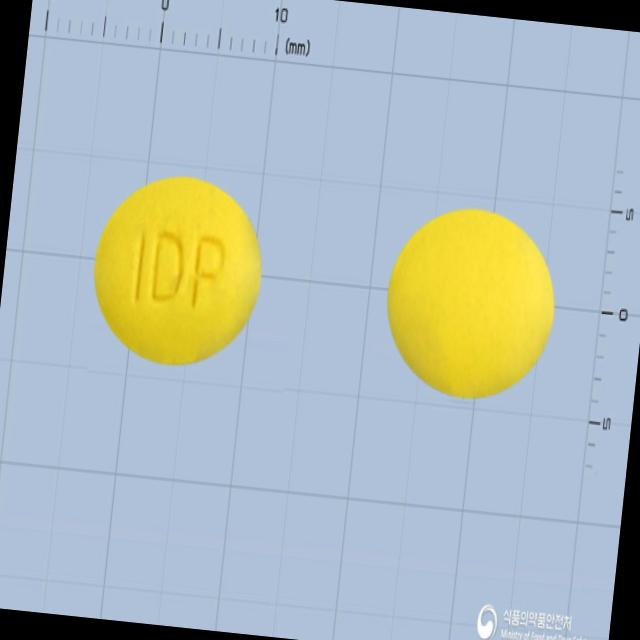Ciracle: (80, 164, 276, 377)
